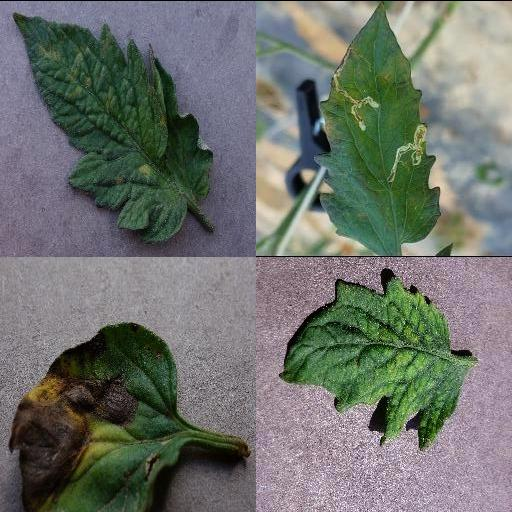Early Blight: (9, 321, 181, 509)
Leaf Miner: (313, 1, 442, 256)
Leaf Mold: (12, 12, 214, 244)
Mosaic Virus: (278, 275, 468, 449)
